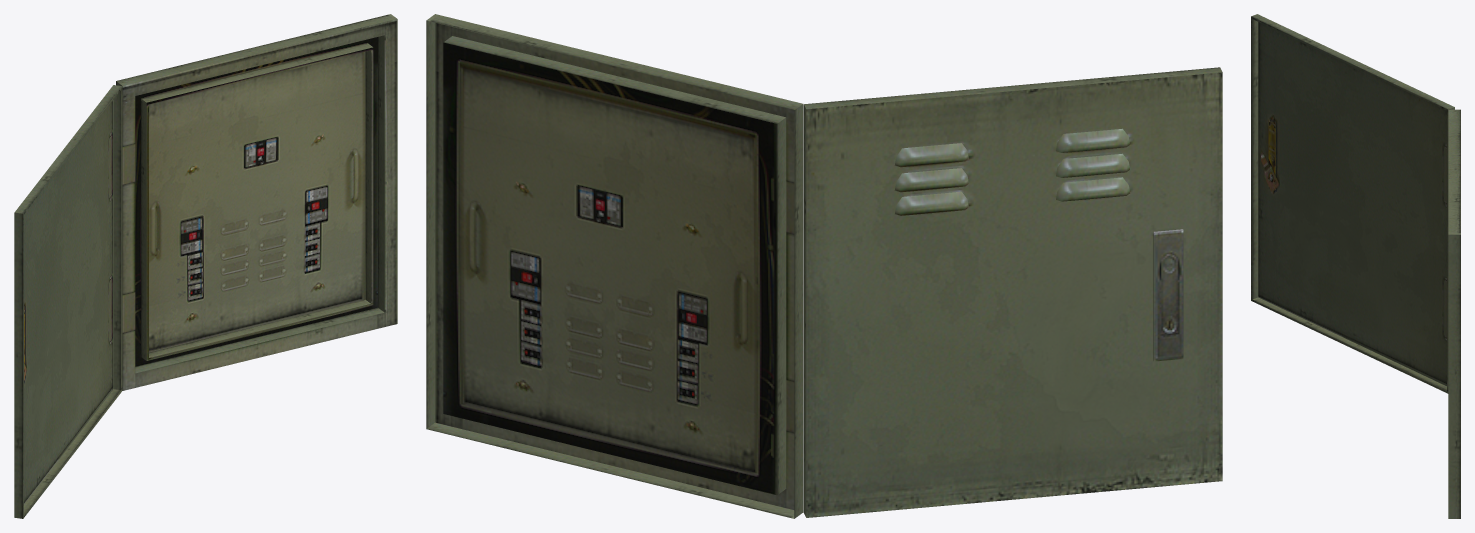
The model's file is fuse_box-1.FBX.
3 views of the same model, side by side, from view 1: azimuth 30°, elevation 25°; view 2: azimuth 150°, elevation 25°; view 3: azimuth 270°, elevation 25° (orthographic). The views are drawn at different scales.
Parts seen in each view (by area): view 1: Box01; view 2: Box01; view 3: Box01.
Boxes of the visible parts, x1=… form: Box01: x1=14, y1=14, x2=397, y2=518; Box01: x1=426, y1=14, x2=1222, y2=518; Box01: x1=1251, y1=14, x2=1460, y2=518.
Size of the model in its own units: 38.82 by 23.33 by 15.59.
